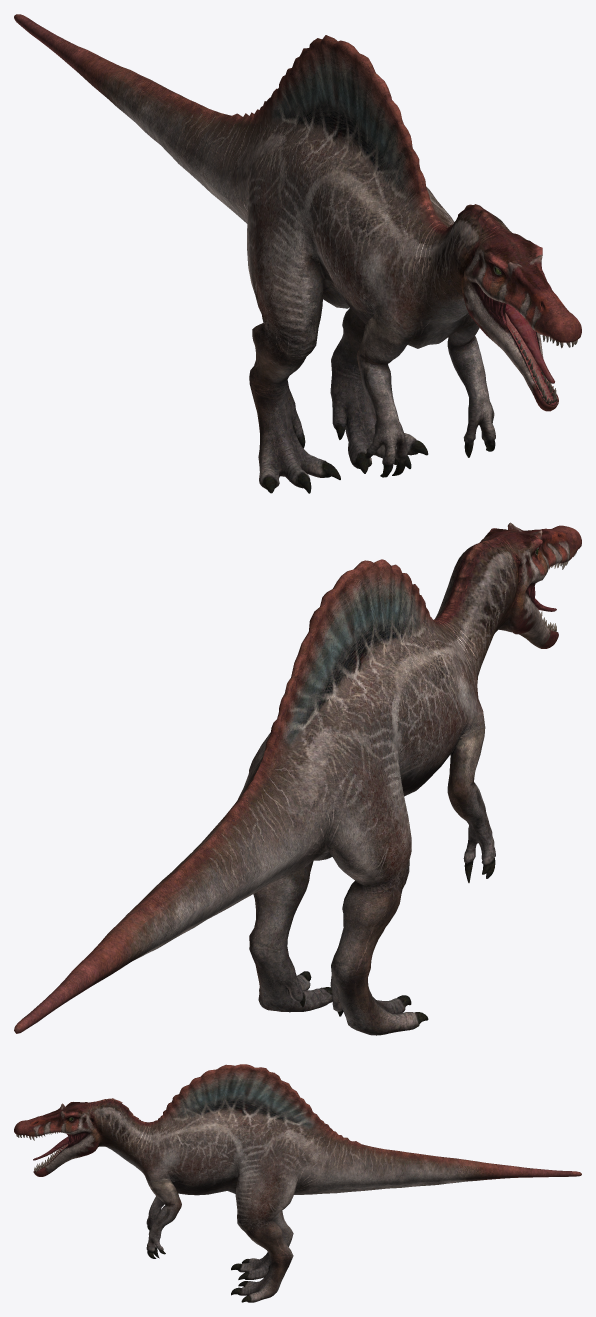
File: spinosaurus.gltf
3 views of the same model, one above another, from view 1: azimuth 30°, elevation 25°; view 2: azimuth 150°, elevation 25°; view 3: azimuth 270°, elevation 25° (orthographic). The views are drawn at different scales.
Visible parts, largest first — view 1: Object_2; view 2: Object_2; view 3: Object_2.
Boxes of the visible parts, x1,y1,x2,y2 form: Object_2: (14,14,581,493); Object_2: (14,522,581,1035); Object_2: (14,1064,581,1302).
Size of the model in its own units: 26.49 by 68.46 by 160.
1 material, 1 textured.
